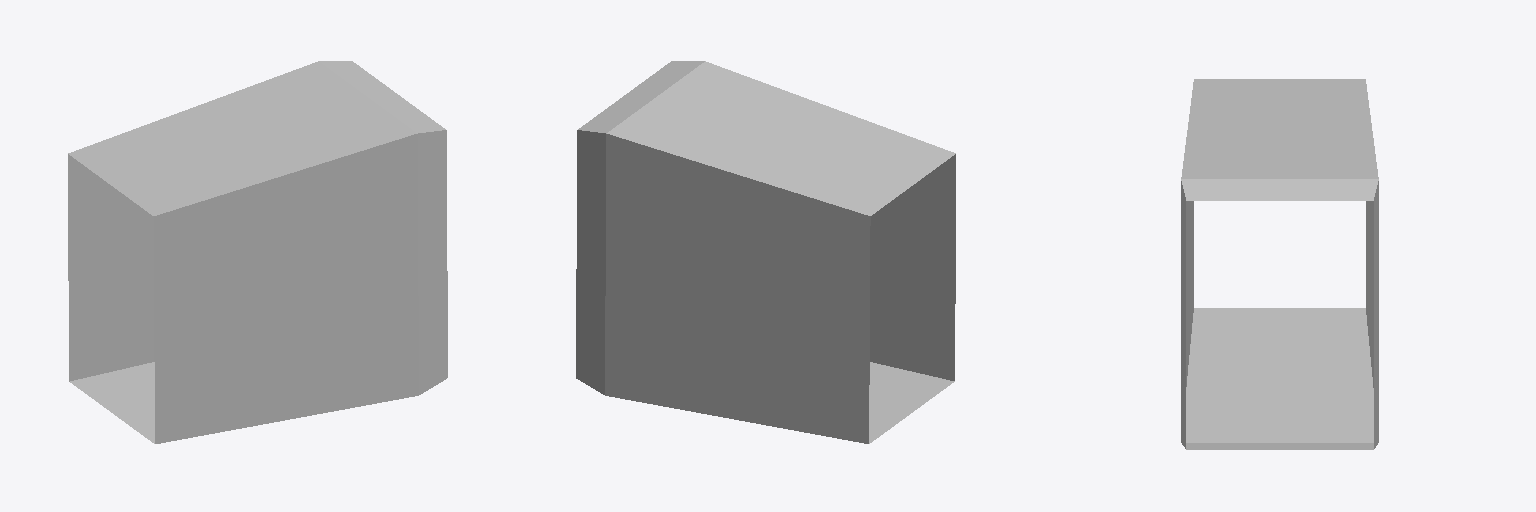
Rendered from Rat_Tail9.obj.
3 renders of one model, left to right at view 1: azimuth 30°, elevation 25°; view 2: azimuth 150°, elevation 25°; view 3: azimuth 270°, elevation 25°, orthographic.
Parts seen in each view (by area): view 1: Rat_Tail.009; view 2: Rat_Tail.009; view 3: Rat_Tail.009.
Part boxes in pixels (left/top/right/bottom): Rat_Tail.009: left=68, top=61, right=447, bottom=443; Rat_Tail.009: left=576, top=61, right=955, bottom=443; Rat_Tail.009: left=1181, top=79, right=1378, bottom=449.
Bounding box in the file's own units: 0.0314 × 0.0271 × 0.0185.